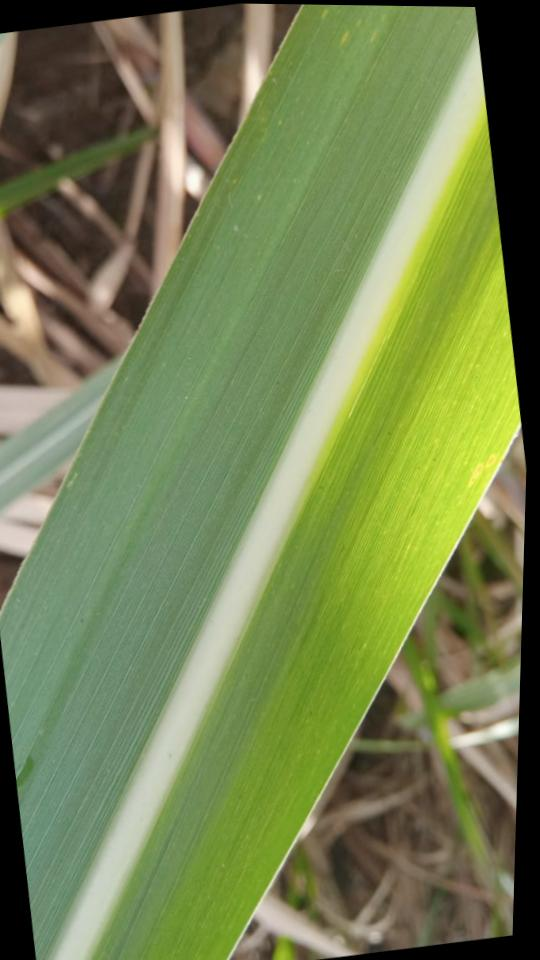Healthy: (0, 5, 520, 960)
